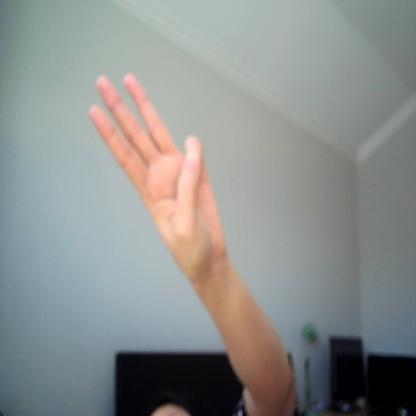W: (89, 75, 238, 287)
